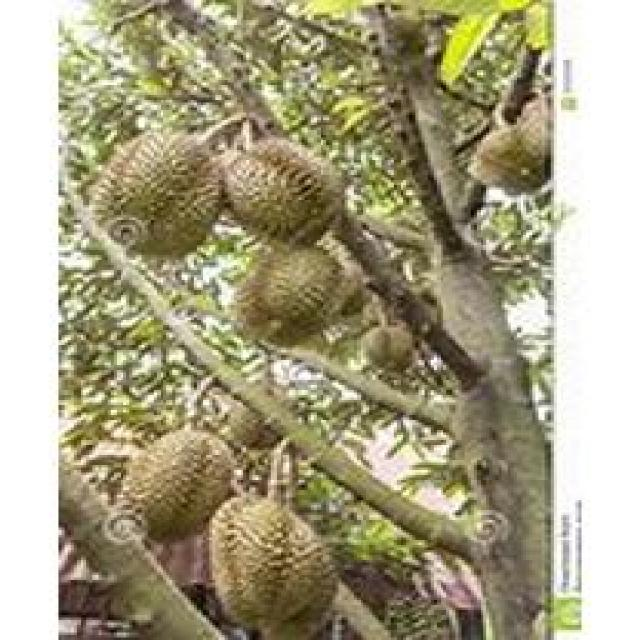fruit: (188, 475, 360, 637), (86, 108, 234, 272), (114, 415, 243, 555)
